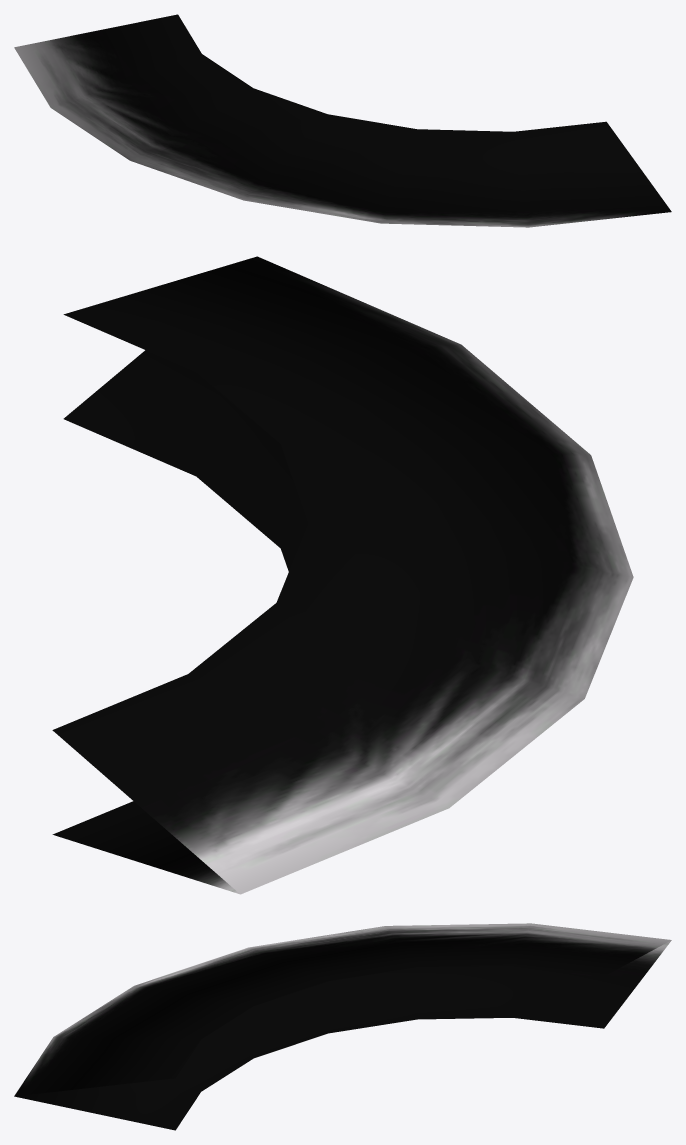
The model's file is daoguang_nezha.FBX.
3 views of the same model, one above another, from view 1: azimuth 30°, elevation 25°; view 2: azimuth 150°, elevation 25°; view 3: azimuth 270°, elevation 25° (orthographic). The views are drawn at different scales.
Visible parts, largest first — view 1: daoguang_nezha; view 2: daoguang_nezha; view 3: daoguang_nezha.
Boxes of the visible parts, x1,y1,x2,y2 form: daoguang_nezha: (14,14,671,227); daoguang_nezha: (52,256,633,894); daoguang_nezha: (14,923,671,1130).
Size of the model in its own units: 99.17 by 13.35 by 152.
Materials: 1 (1 with a texture image).
